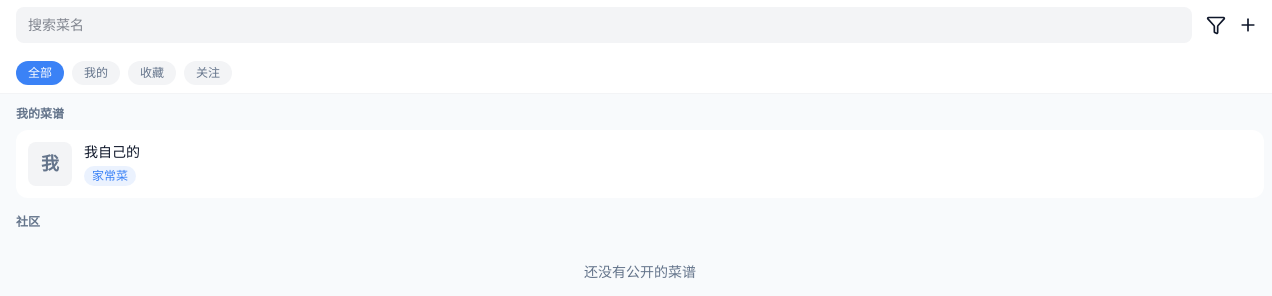
RecipeList › 「收藏」有收藏但被筛选筛空时说「没有符合条件的菜谱」
The width and height of the screenshot is (1272, 296).
Click the button with test id "tab-fav": x=152, y=73 [128, 61, 176, 85]
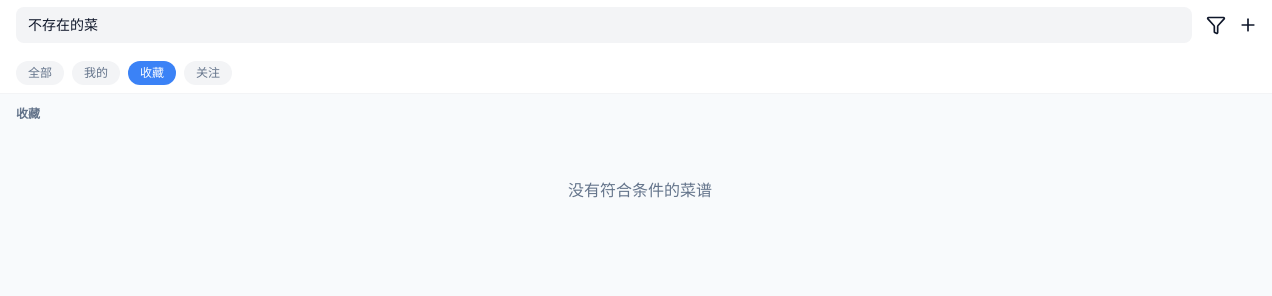
Now the element with test id "my-recipes" shows "没有符合条件的菜谱", box [568, 180, 712, 200]
